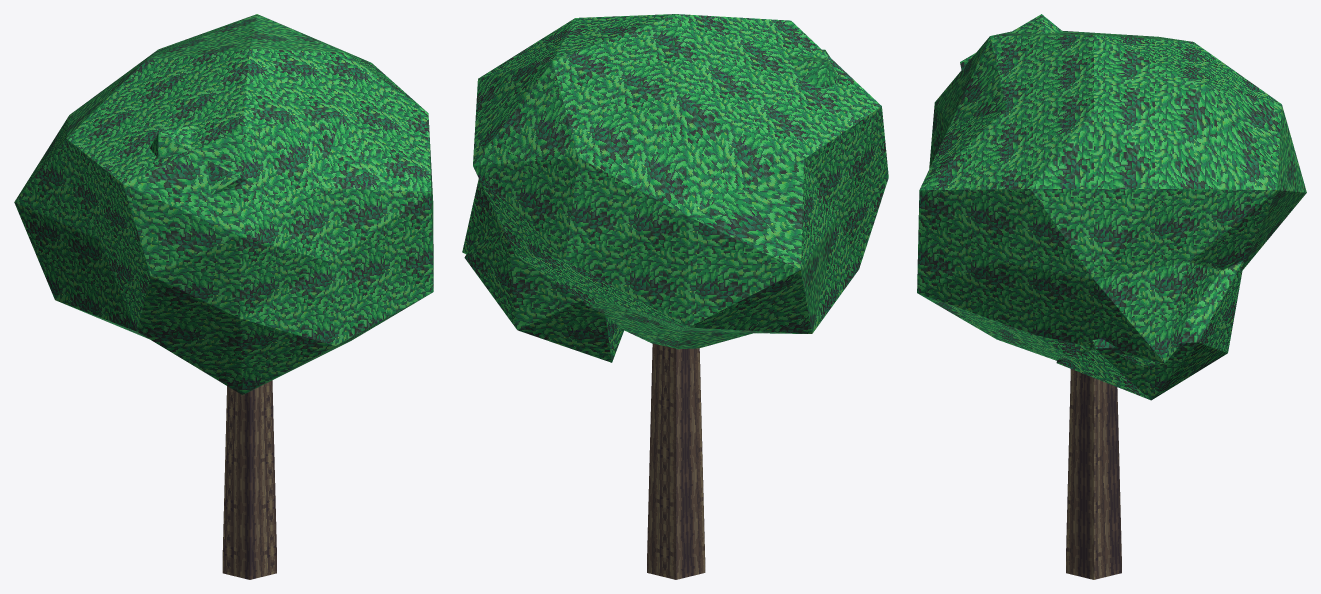
Rendered from oak_a.glb.
3 renders of one model, left to right at view 1: azimuth 30°, elevation 25°; view 2: azimuth 150°, elevation 25°; view 3: azimuth 270°, elevation 25°, orthographic. The views are drawn at different scales.
Visible parts, largest first — view 1: oak_a; view 2: oak_a; view 3: oak_a.
Part boxes in pixels (x1,y1,x2,y2): oak_a: [14, 14, 433, 579]; oak_a: [462, 14, 888, 579]; oak_a: [917, 14, 1306, 579].
Size of the model in its own units: 3.97 by 5.62 by 3.74.
Materials: 2 (2 with a texture image).
